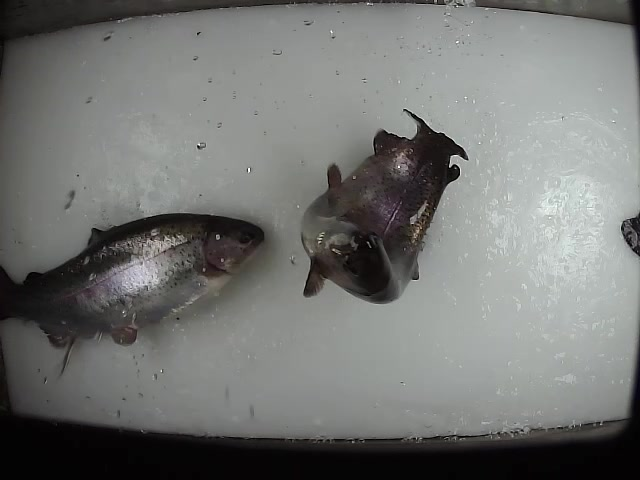fish: (1, 212, 267, 380), (299, 106, 470, 304), (614, 210, 640, 255)
